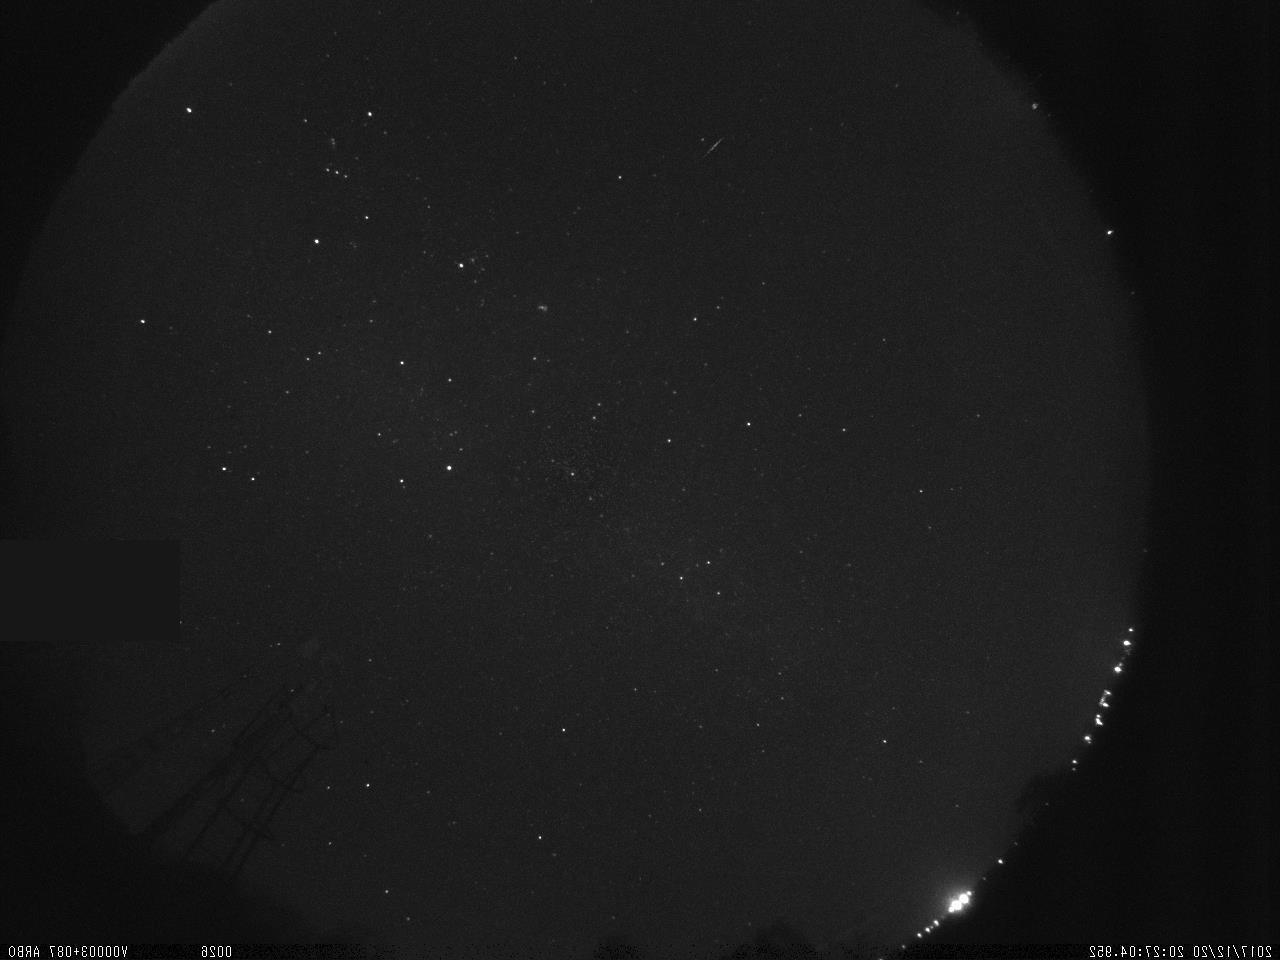meteor: (697, 134, 731, 161)
